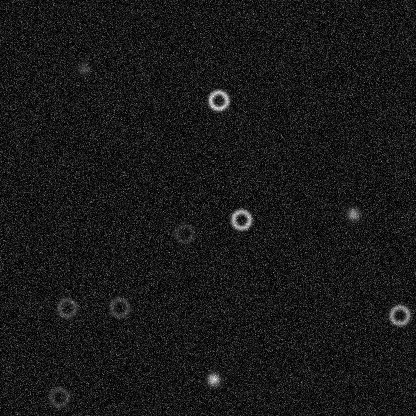Ring: (229, 207, 253, 231), (206, 88, 230, 112), (54, 295, 78, 319), (47, 385, 71, 409), (387, 303, 411, 327), (107, 295, 131, 319), (172, 221, 196, 245)
Spot: (75, 60, 91, 76), (344, 206, 360, 222), (205, 371, 221, 387)
